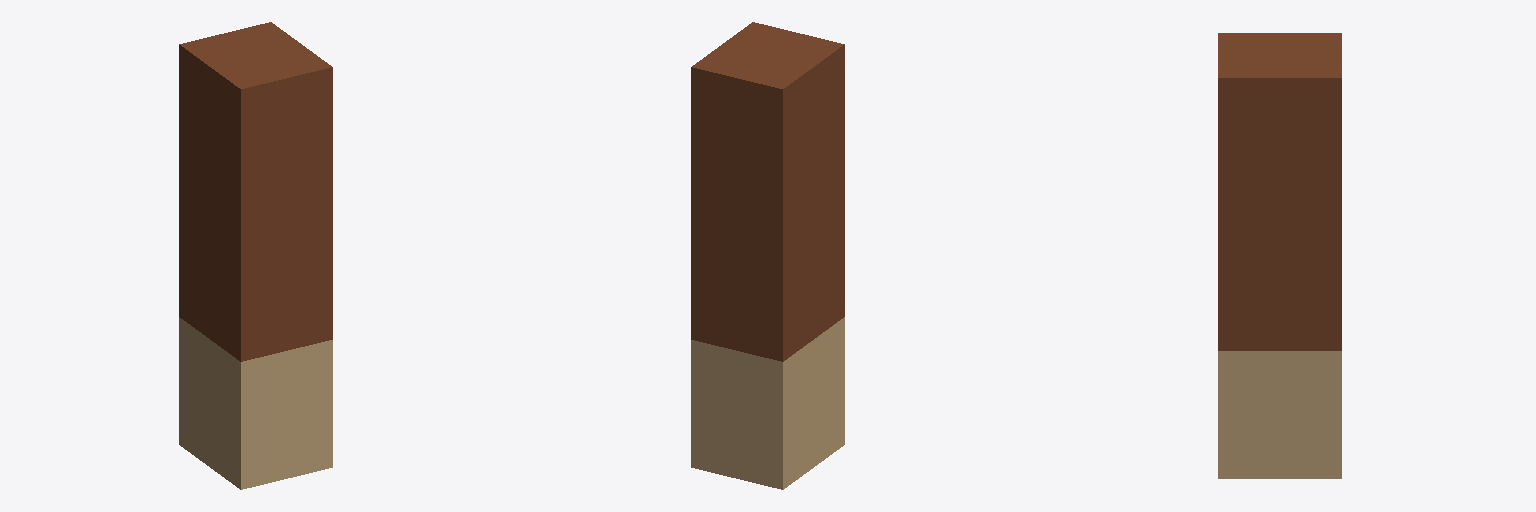
The model's file is Arm.obj.
3 views of the same model, side by side, from view 1: azimuth 30°, elevation 25°; view 2: azimuth 150°, elevation 25°; view 3: azimuth 270°, elevation 25° (orthographic).
Visible parts, largest first — view 1: RightArm, RightHand; view 2: RightArm, RightHand; view 3: RightArm, RightHand.
Boxes of the visible parts, x1,y1,x2,y2 form: RightArm: [179, 22, 332, 361]; RightHand: [179, 317, 332, 489]; RightArm: [691, 22, 844, 361]; RightHand: [691, 317, 844, 489]; RightArm: [1218, 33, 1341, 350]; RightHand: [1218, 351, 1341, 478].
Bounding box in the file's own units: 0.12 × 0.5 × 0.1396.